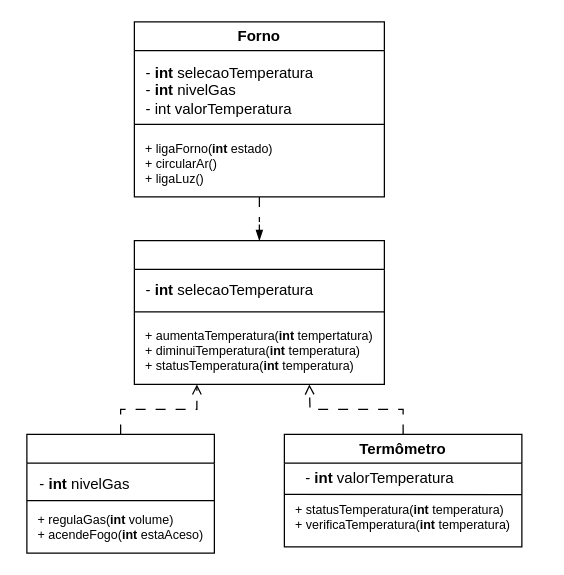
The diagram is 564 pixels wide and 575 high, and some of its shapes have lost their labels. Each missing label, with the box of its shape:
Queimador: (26, 433, 214, 553)
Termostato: (133, 239, 384, 384)
